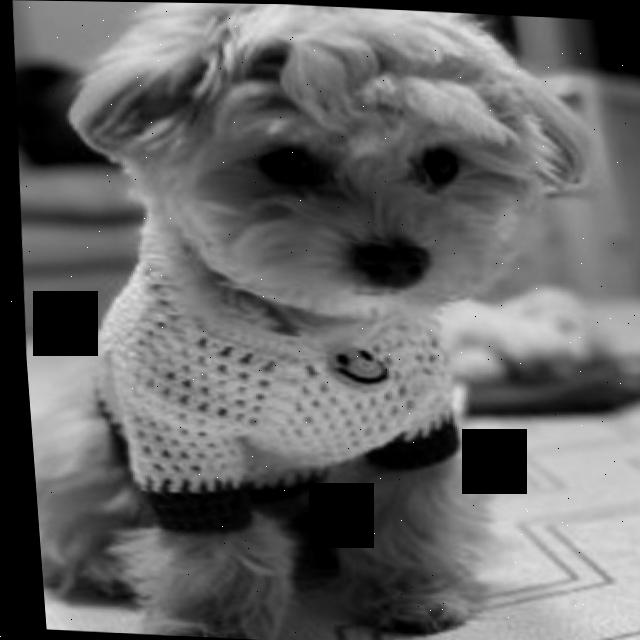cloth: (91, 219, 451, 529)
